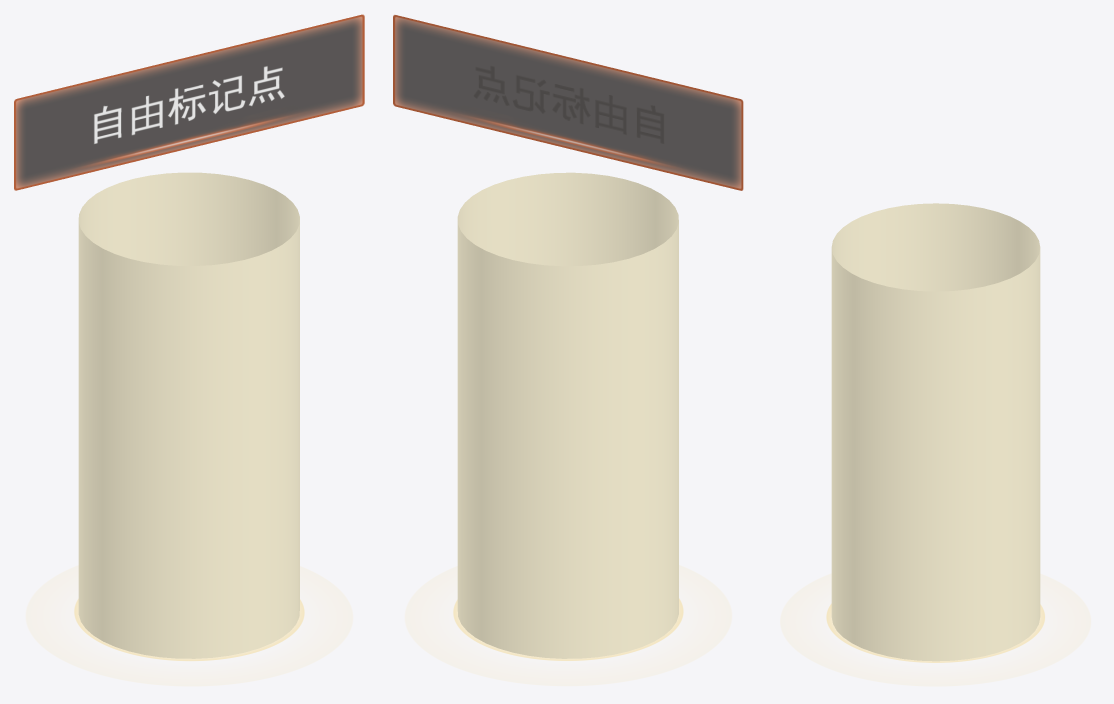
The model's file is SM_POI_Diamond_hover.glb.
3 renders of one model, left to right at view 1: azimuth 30°, elevation 25°; view 2: azimuth 150°, elevation 25°; view 3: azimuth 270°, elevation 25°, orthographic. The views are drawn at different scales.
Visible parts, largest first — view 1: Poly_Lighting, Poly_UI_Box, Poly_Round_Wave, Poly_Text, Poly_Round_Center; view 2: Poly_Lighting, Poly_UI_Box, Poly_Round_Wave, Poly_Text, Poly_Round_Center; view 3: Poly_Lighting, Poly_Round_Wave, Poly_Round_Center.
Part boxes in pixels (bbox=[...]): Poly_Lighting: bbox=[78, 172, 299, 658]; Poly_UI_Box: bbox=[14, 14, 364, 190]; Poly_Round_Wave: bbox=[26, 565, 352, 686]; Poly_Text: bbox=[94, 66, 284, 143]; Poly_Round_Center: bbox=[74, 598, 304, 661]; Poly_Lighting: bbox=[457, 172, 678, 658]; Poly_UI_Box: bbox=[393, 15, 743, 190]; Poly_Round_Wave: bbox=[405, 565, 731, 685]; Poly_Text: bbox=[474, 66, 663, 143]; Poly_Round_Center: bbox=[453, 598, 683, 660]; Poly_Lighting: bbox=[831, 203, 1040, 661]; Poly_Round_Wave: bbox=[780, 574, 1090, 686]; Poly_Round_Center: bbox=[826, 603, 1044, 662].
Bounding box in the file's own units: 1.6 × 2.44 × 1.38.
7 materials, 6 textured.
